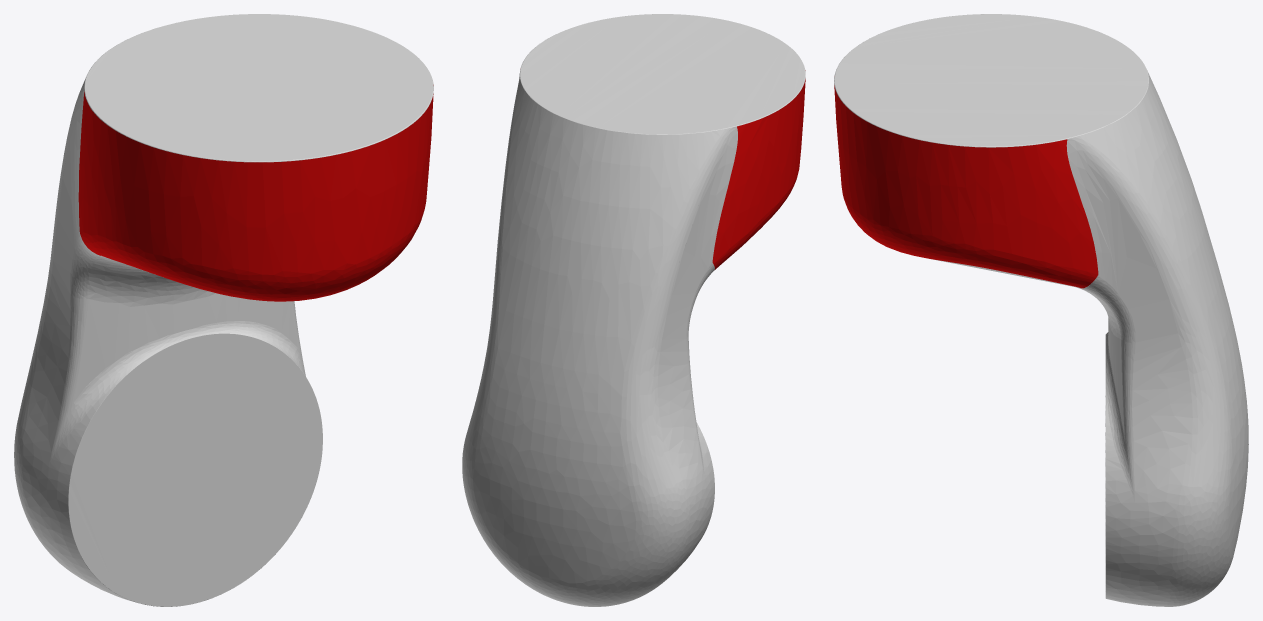
The picture shows the model from 3 angles, left to right: view 1: azimuth 30°, elevation 25°; view 2: azimuth 150°, elevation 25°; view 3: azimuth 270°, elevation 25°; orthographic projection. The views are drawn at different scales.
Parts seen in each view (by area): view 1: Untitled_001, Untitled; view 2: Untitled_001, Untitled; view 3: Untitled_001, Untitled.
Part boxes in pixels (x1,y1,x2,y2): Untitled_001: [14, 14, 433, 606]; Untitled: [78, 85, 433, 301]; Untitled_001: [462, 14, 805, 606]; Untitled: [712, 70, 805, 269]; Untitled_001: [834, 14, 1248, 606]; Untitled: [834, 85, 1098, 288].
Bounding box in the file's own units: 0.1131 × 0.1489 × 0.2034.
